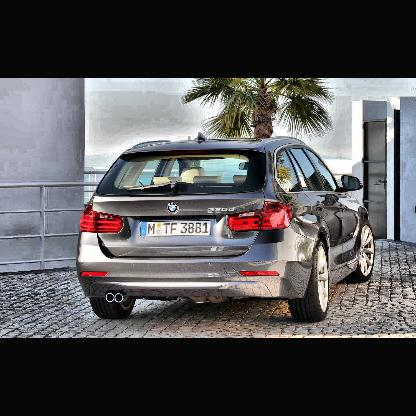BMW 3 Series Wagon 2012: (55, 126, 387, 325)
